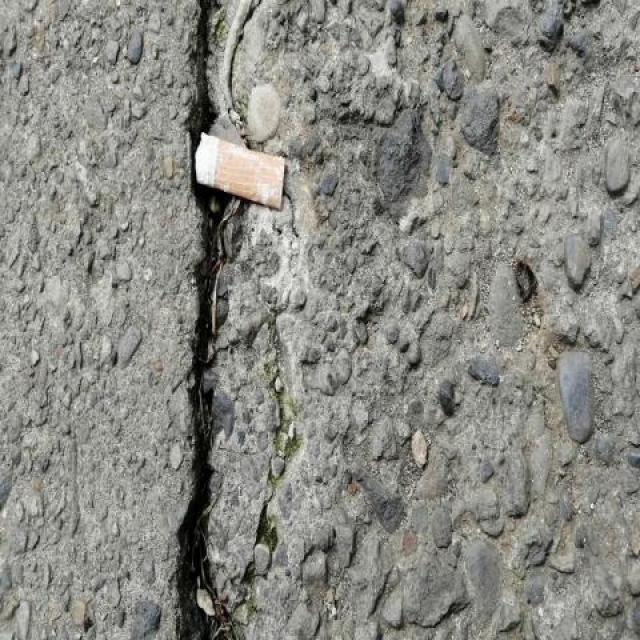non-organic waste: (190, 127, 290, 214)
